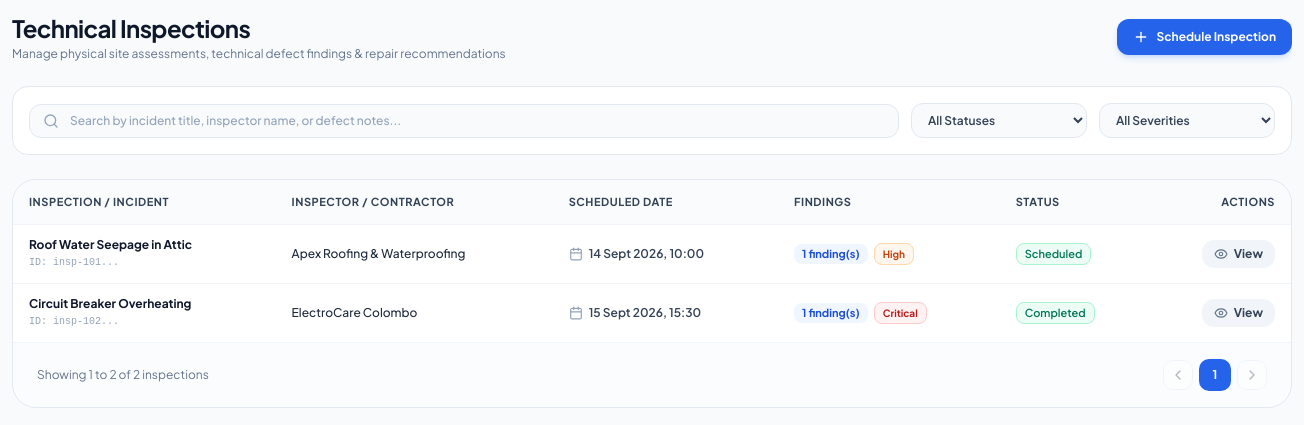
Test: InspectionListPage › filters inspection items by search input text
Expected: the text "Roof Water Seepage in Attic" is shown, [29,237,192,252]
Type "Circuit Breaker" into the field with placeholder "Search by incident title, inspector name, or defect notes..." at [464, 120], box [29,104,899,138]
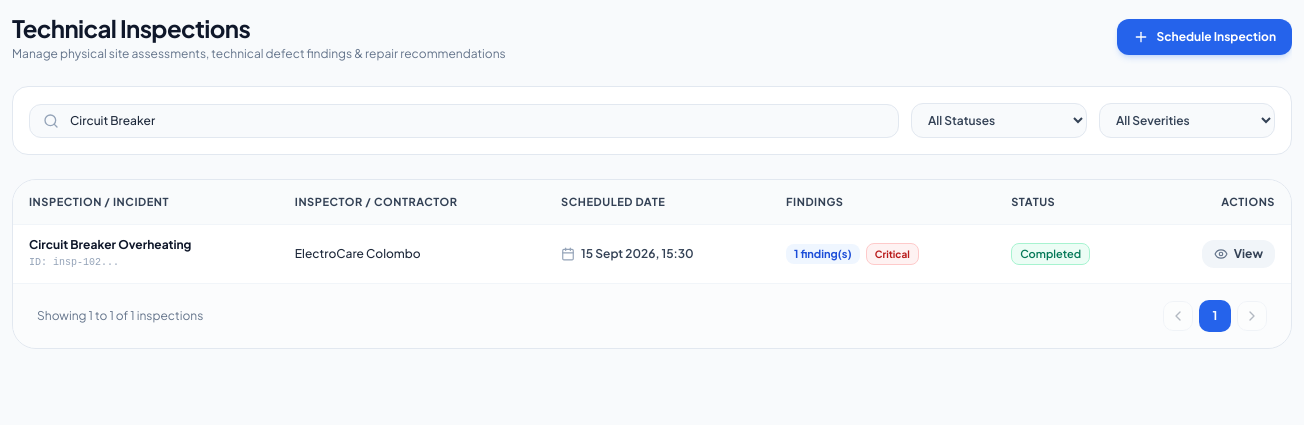
Expected: the text "Circuit Breaker Overheating" is shown, [29,237,191,252]
Expected: the text "Roof Water Seepage in Attic" is gone
